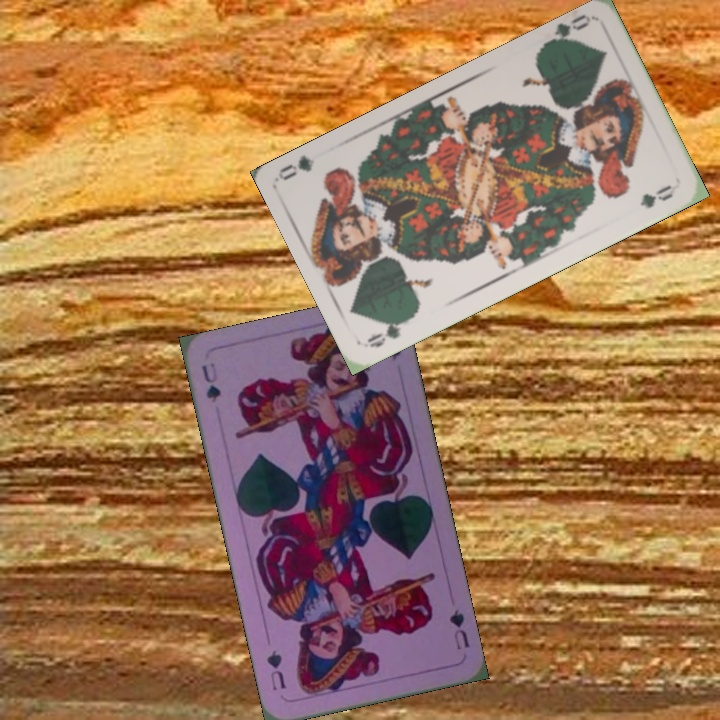GO: (362, 312, 417, 350), (539, 11, 593, 49)
GU: (445, 605, 472, 653), (197, 358, 224, 405)
